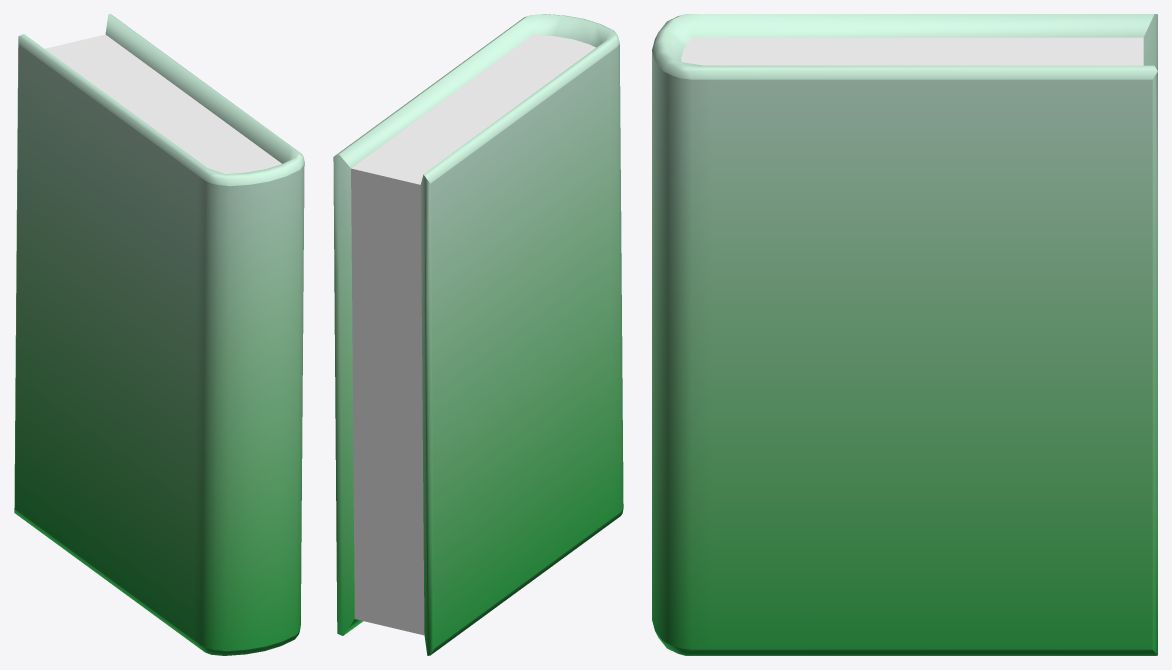
File: Book_2.fbx
3 views of the same model, side by side, from view 1: azimuth 30°, elevation 25°; view 2: azimuth 150°, elevation 25°; view 3: azimuth 270°, elevation 25° (orthographic). The views are drawn at different scales.
Parts seen in each view (by area): view 1: Book_2; view 2: Book_2; view 3: Book_2.
Boxes of the visible parts, x1,y1,x2,y2 form: Book_2: (14, 14, 304, 655); Book_2: (333, 14, 623, 655); Book_2: (652, 14, 1157, 655).
Size of the model in its own units: 0.088 by 0.4028 by 0.3112.
